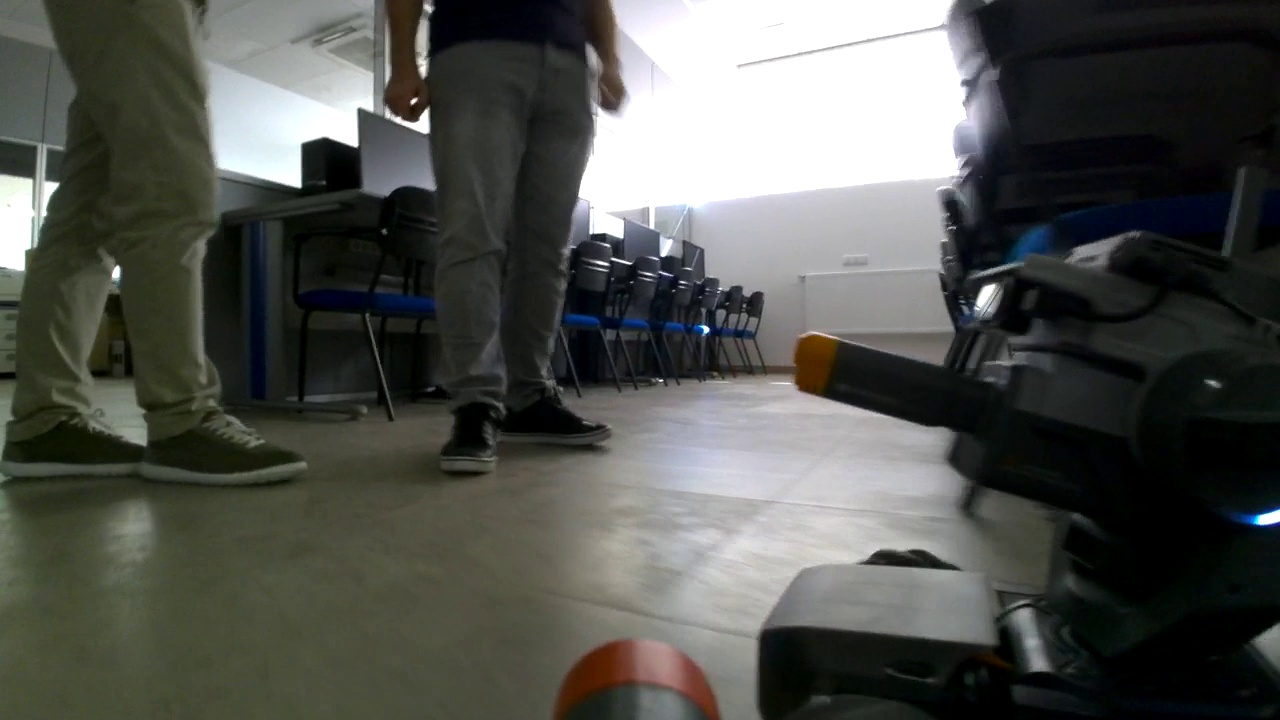robot: (758, 169, 1280, 718)
